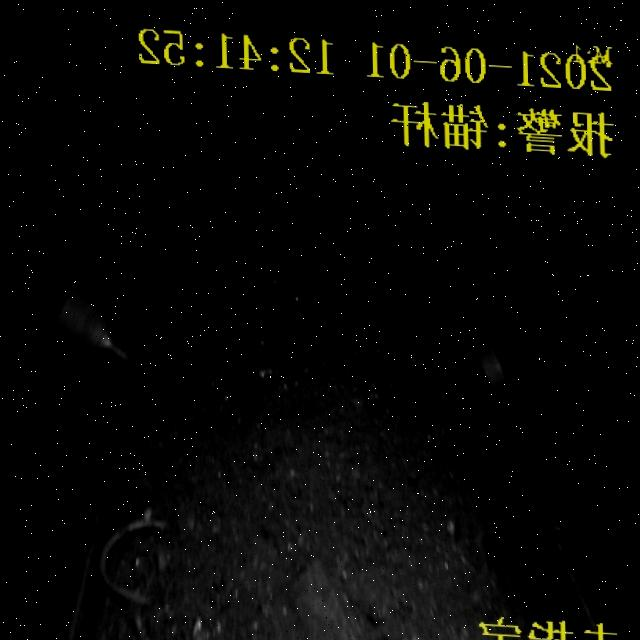bolt: (95, 512, 167, 640)
large_sized_coal: (276, 561, 367, 640)
